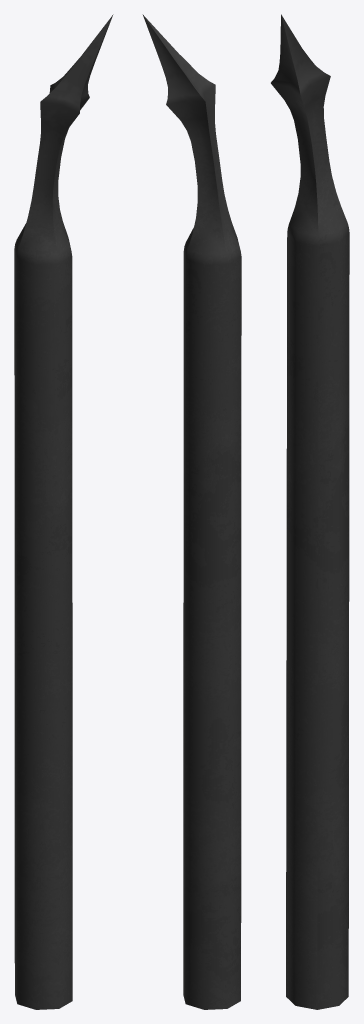
Rendered from SM_RailingAPoleB.fbx.
3 views of the same model, side by side, from view 1: azimuth 30°, elevation 25°; view 2: azimuth 210°, elevation 25°; view 3: azimuth 270°, elevation 25° (orthographic). The views are drawn at different scales.
Visible parts, largest first — view 1: SM_RailingAPoleB_LOD0; view 2: SM_RailingAPoleB_LOD0; view 3: SM_RailingAPoleB_LOD0.
Boxes of the visible parts, <box> form: SM_RailingAPoleB_LOD0: <box>14,14,113,1009</box>; SM_RailingAPoleB_LOD0: <box>142,14,241,1009</box>; SM_RailingAPoleB_LOD0: <box>271,14,349,1009</box>.
Bounding box in the file's own units: 14.18 × 12.06 × 170.
Materials: 1 (1 with a texture image).
